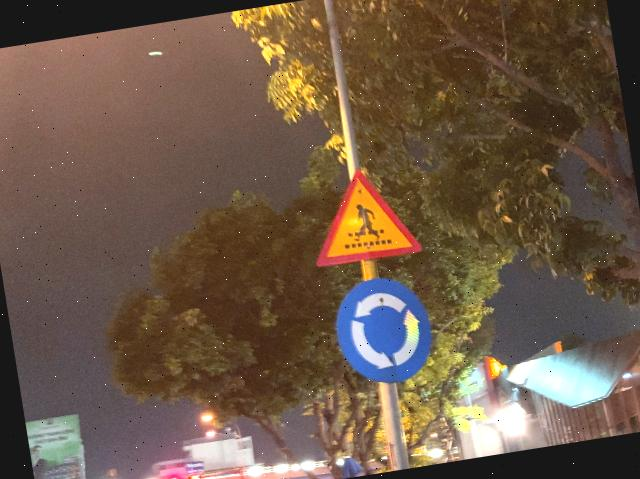duong-nguoi-di-bo-cat-ngang: (300, 160, 421, 270)
noi-giao-nhau-chay-theo-vong-xuyen: (326, 270, 438, 392)
